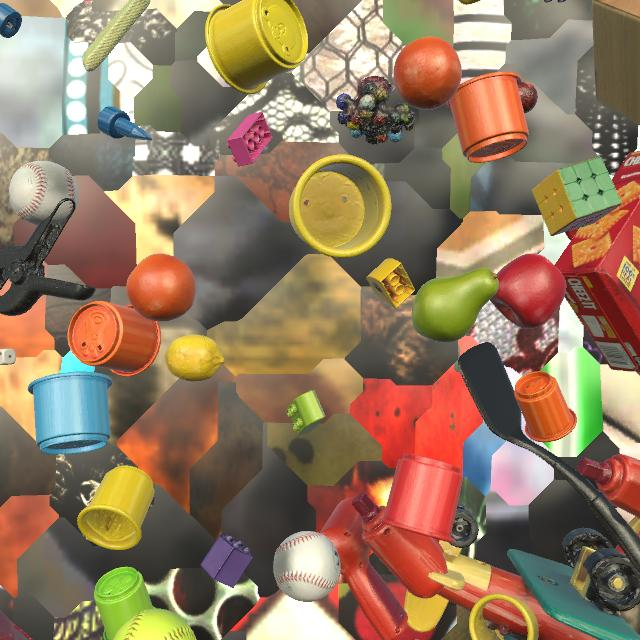ycb_003_cracker_box: (555, 151, 640, 372)
ycb_006_mustard_bottle: (458, 0, 481, 5)
ycb_013_apple: (490, 253, 566, 329)
ycb_014_lemon: (165, 334, 225, 382)
ycb_016_pear: (412, 268, 499, 343)
ycb_017_orange: (393, 37, 462, 110), (126, 254, 196, 321)
